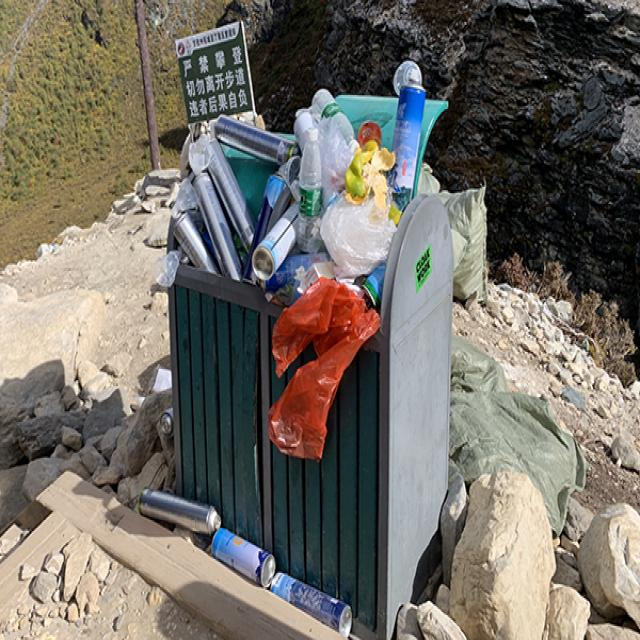overflow: (134, 56, 452, 639)
